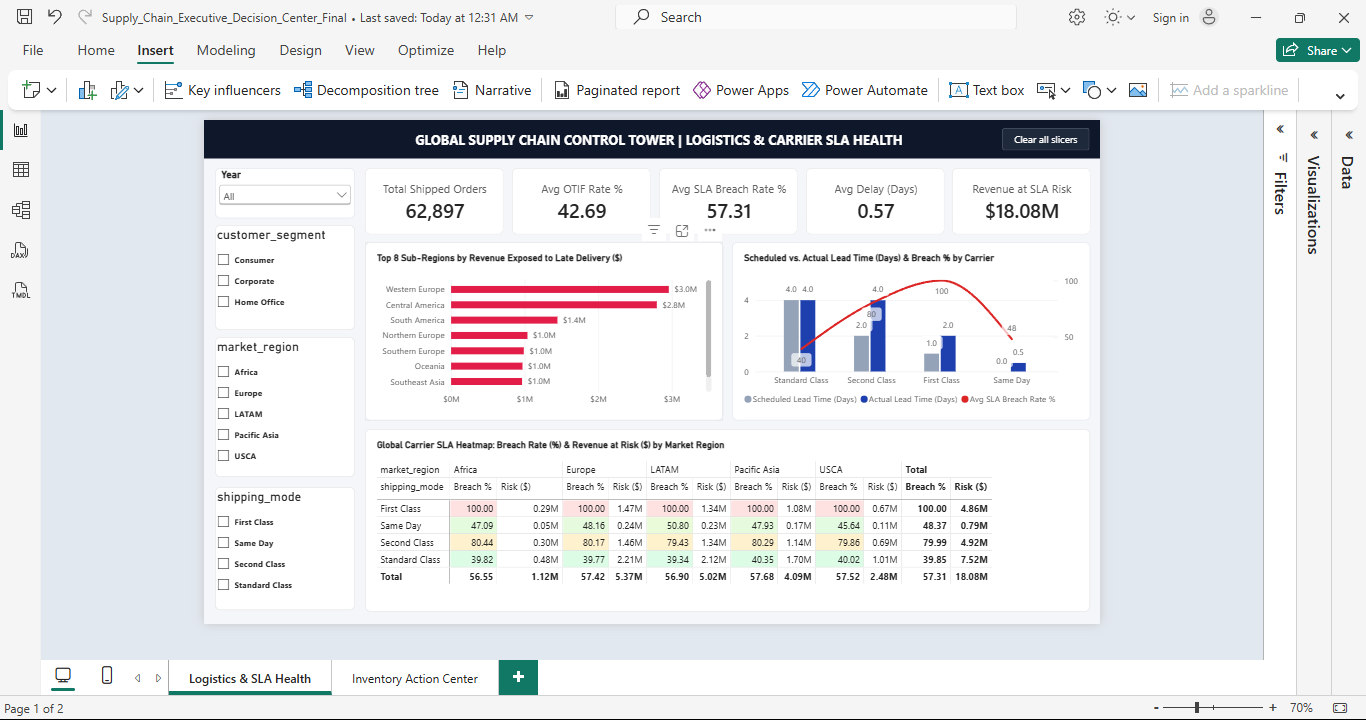

What the dashboard file says about the page in this screenshot:
{"tool":"powerbi","page":{"name":"Logistics & SLA Health","canvas":[1280,720],"ordinal":0},"visuals":[{"type":"shape","box":[0,0,1280,55],"z":0},{"type":"cardVisual","fields":{"Data":["_Measures.Total Shipped Orders"]},"box":[230,68,198,95],"z":1000},{"type":"cardVisual","fields":{"Data":["_Measures.Avg OTIF Rate %"]},"box":[440,68,198,95],"z":2000},{"type":"cardVisual","fields":{"Data":["_Measures.Avg SLA Breach Rate %"]},"box":[650,68,198,95],"z":3000},{"type":"cardVisual","fields":{"Data":["_Measures.Avg Lead Time Delay (Days)"]},"box":[860,68,198,95],"z":4000},{"type":"cardVisual","fields":{"Data":["_Measures.Revenue at SLA Risk"]},"box":[1068,68,198,95],"z":5000},{"type":"slicer","fields":{"Values":["Dim_Date.Year"]},"box":[15,68,200,72],"z":6000},{"type":"listSlicer","fields":{"Values":["silver_dim_customers.customer_segment"]},"box":[16,150,200,150],"z":7000},{"type":"listSlicer","fields":{"Values":["silver_dim_shipping.market_region"]},"box":[16,310,200,200],"z":8000},{"type":"listSlicer","fields":{"Values":["silver_dim_shipping.shipping_mode"]},"box":[16,524,200,176],"z":9000},{"type":"clusteredBarChart","title":"Top 8 Sub-Regions by Revenue Exposed to Late Delivery ($)","fields":{"Category":["silver_dim_shipping.order_region"],"Y":["_Measures.Revenue at SLA Risk"]},"box":[230,175,512,255],"z":10000},{"type":"lineClusteredColumnComboChart","title":"Scheduled vs. Actual Lead Time (Days) & Breach % by Carrier","fields":{"Category":["silver_dim_shipping.shipping_mode"],"Y":["_Measures.Scheduled Lead Time (Days)","_Measures.Actual Lead Time (Days)"],"Y2":["_Measures.Avg SLA Breach Rate %"]},"box":[754,175,512,255],"z":11000},{"type":"pivotTable","title":"Global Carrier SLA Heatmap: Breach Rate (%) & Revenue at Risk ($) by Market Region","fields":{"Columns":["silver_dim_shipping.market_region"],"Rows":["silver_dim_shipping.shipping_mode"],"Values":["_Measures.Avg SLA Breach Rate %","_Measures.Revenue at SLA Risk"]},"box":[230,442,1036,261],"z":12000},{"type":"actionButton","box":[1140,12,125,32],"z":12001}]}

Visuals, with their boxes on the page's 1280x720 design canvas (x1, y1, x2, y2). These are canvas units, not pixel positions in the 1366x720 screenshot, which may show the page scaled, cropped or inside an application window:
shape: 0:0:1280:55
cardVisual - _Measures.Total Shipped Orders: 230:68:428:163
cardVisual - _Measures.Avg OTIF Rate %: 440:68:638:163
cardVisual - _Measures.Avg SLA Breach Rate %: 650:68:848:163
cardVisual - _Measures.Avg Lead Time Delay (Days): 860:68:1058:163
cardVisual - _Measures.Revenue at SLA Risk: 1068:68:1266:163
slicer - Dim_Date.Year: 15:68:215:140
listSlicer - silver_dim_customers.customer_segment: 16:150:216:300
listSlicer - silver_dim_shipping.market_region: 16:310:216:510
listSlicer - silver_dim_shipping.shipping_mode: 16:524:216:700
"Top 8 Sub-Regions by Revenue Exposed to Late Delivery ($)" clusteredBarChart: 230:175:742:430
"Scheduled vs. Actual Lead Time (Days) & Breach % by Carrier" lineClusteredColumnComboChart: 754:175:1266:430
"Global Carrier SLA Heatmap: Breach Rate (%) & Revenue at Risk ($) by Market Region" pivotTable: 230:442:1266:703
actionButton: 1140:12:1265:44
